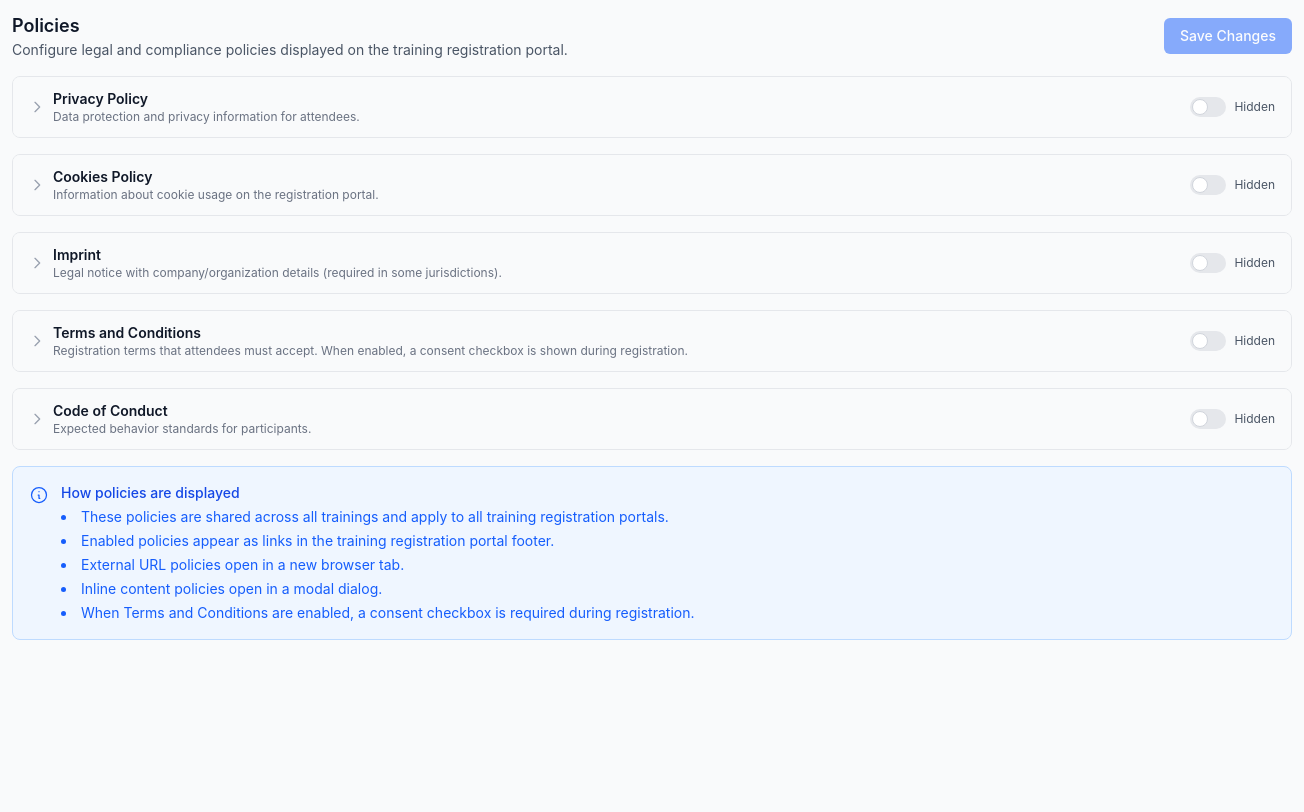
it: Training PoliciesTab › enables save button after toggling a policy
Check: the heading "Privacy Policy" is shown, box [53,90,148,107]
All toggles start as "Hidden" checkboxes
Click the 1st checkbox labelled "Hidden": (1233, 107) [1190,97,1275,117]
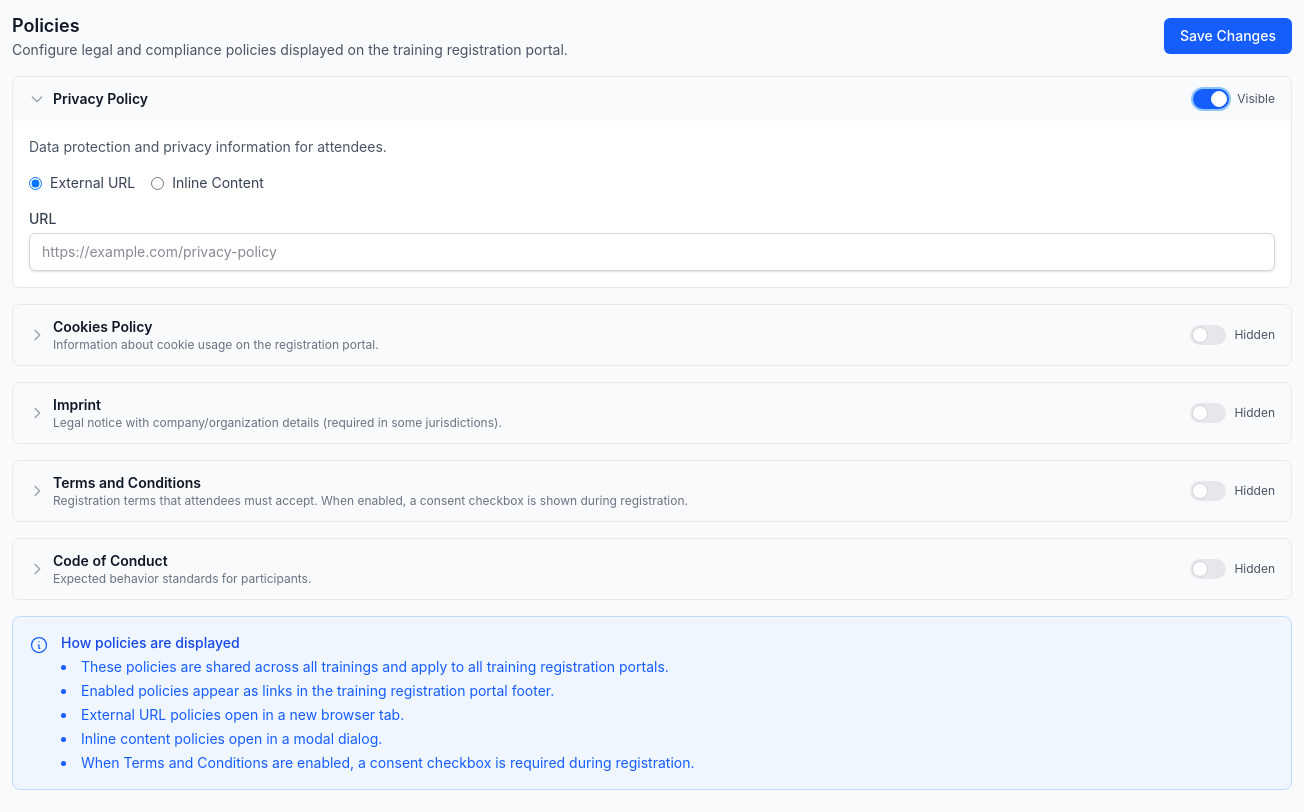
Check: the button "Save Changes" is enabled, box [1164,18,1292,54]
